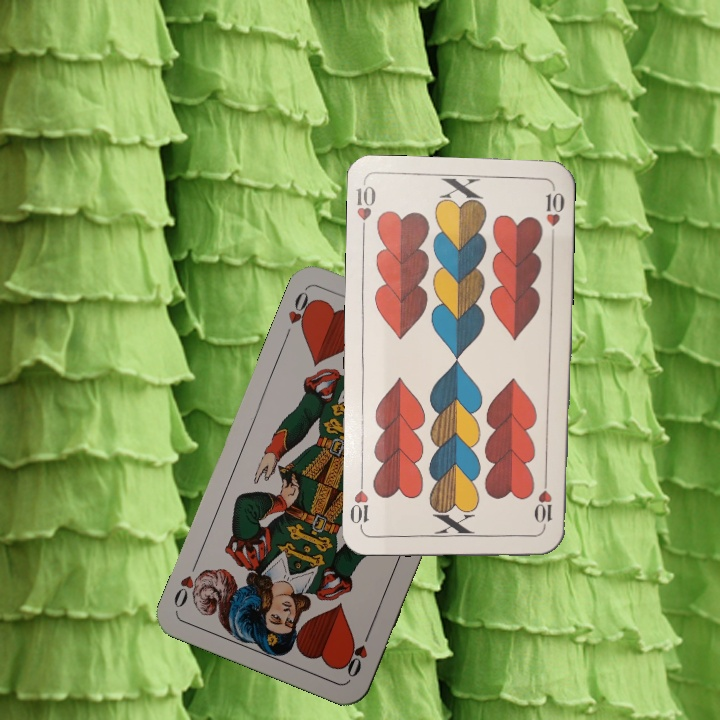H10: (353, 180, 379, 239), (533, 473, 555, 532)
HO: (341, 624, 374, 681), (284, 285, 318, 335)
